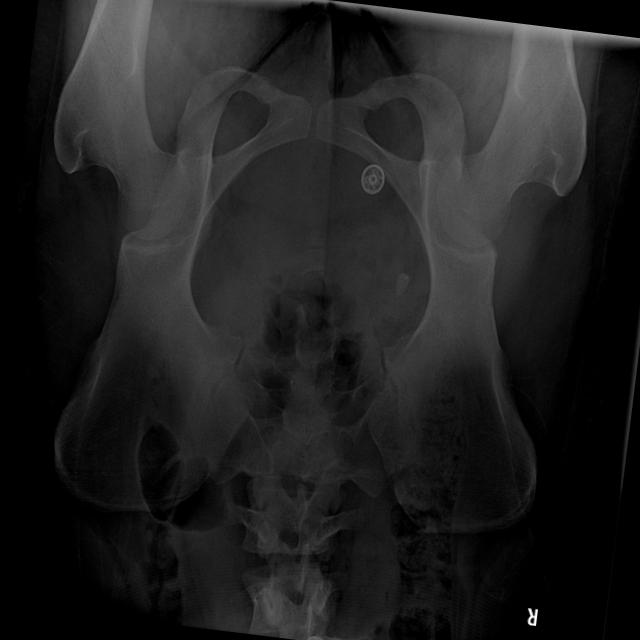normal-left: (53, 0, 188, 238)
normal-right: (434, 21, 586, 247)
